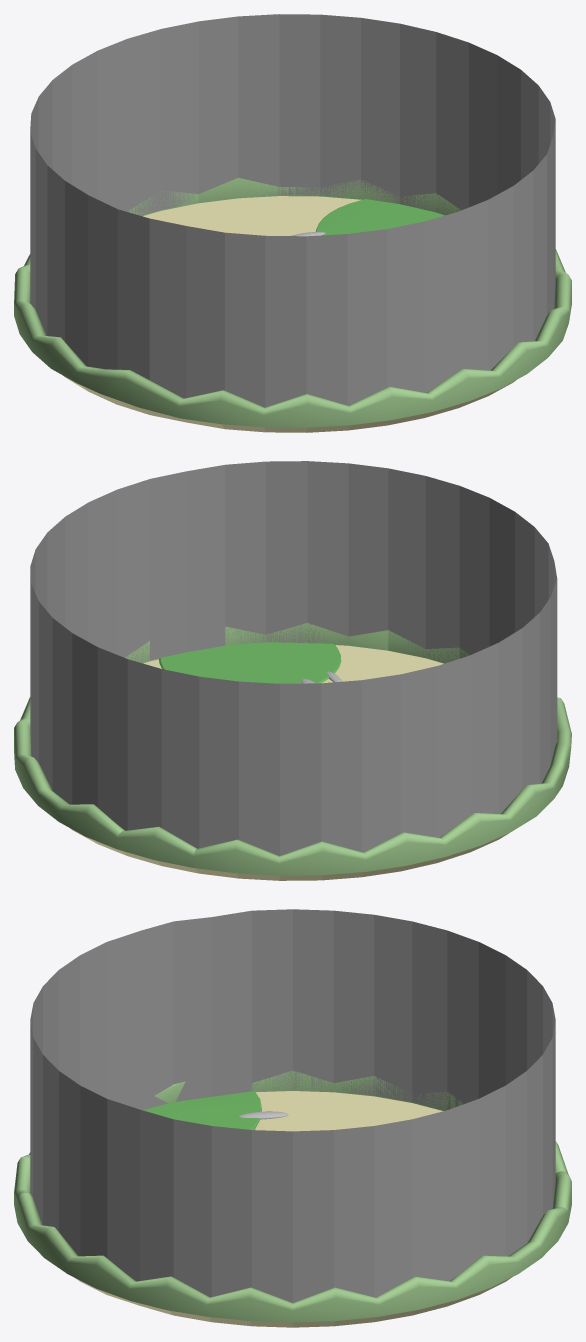
Rendered from Chesha_Ground.fbx.
The picture shows the model from 3 angles, top to bottom: view 1: azimuth 30°, elevation 25°; view 2: azimuth 150°, elevation 25°; view 3: azimuth 270°, elevation 25°; orthographic projection.
Visible parts, largest first — view 1: corrasion, Wall, Base, Felt, Gate_Front, Gate_Back; view 2: corrasion, Wall, Felt, Base, Gate_Back, Gate_Front; view 3: corrasion, Wall, Base, Felt, Gate_Back, Gate_Front.
Boxes of the visible parts, <box> form: corrasion: <box>30,14,555,407</box>; Wall: <box>14,177,571,427</box>; Base: <box>63,196,515,432</box>; Felt: <box>315,199,444,235</box>; Gate_Front: <box>390,369,468,419</box>; Gate_Back: <box>127,190,198,216</box>; corrasion: <box>30,461,557,855</box>; Wall: <box>14,623,571,875</box>; Felt: <box>159,642,341,683</box>; Base: <box>70,645,508,880</box>; Gate_Back: <box>117,826,196,867</box>; Gate_Front: <box>388,630,459,663</box>; corrasion: <box>30,909,555,1302</box>; Wall: <box>17,1070,568,1322</box>; Base: <box>74,1091,512,1327</box>; Felt: <box>143,1091,261,1129</box>; Gate_Back: <box>552,1171,571,1221</box>; Gate_Front: <box>14,1156,32,1221</box>.
Bounding box in the file's own units: 48.35 × 18.78 × 48.35.
2 materials, 1 textured.
